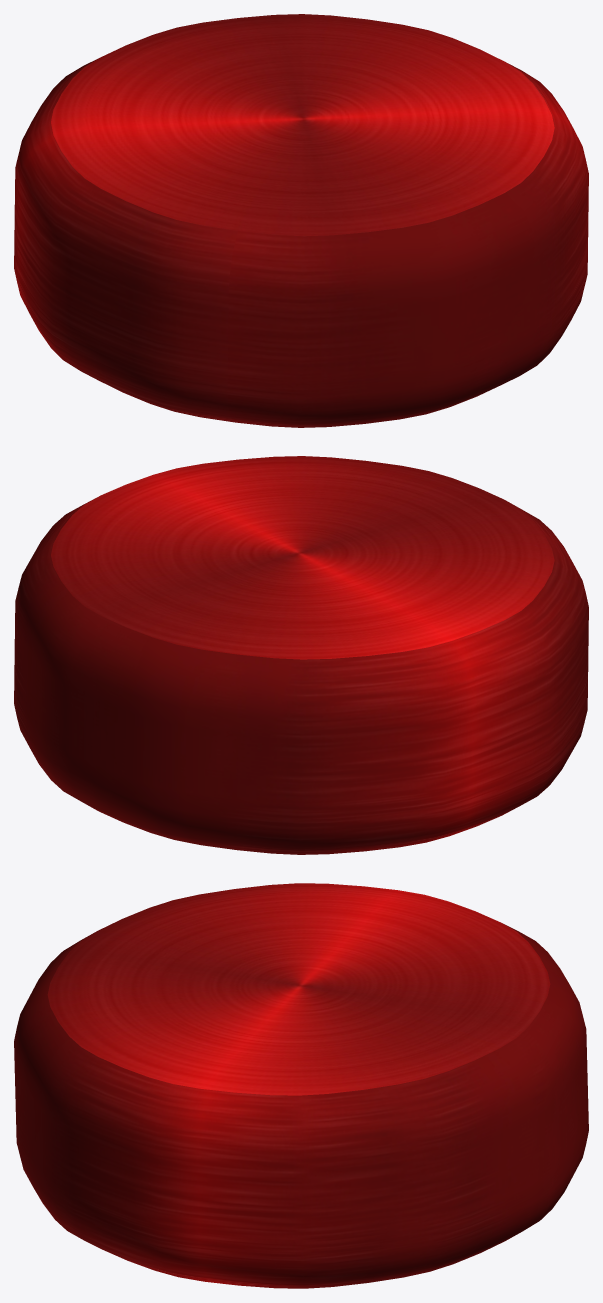
File: RedButton.fbx
3 renders of one model, top to bottom at view 1: azimuth 30°, elevation 25°; view 2: azimuth 150°, elevation 25°; view 3: azimuth 270°, elevation 25°, orthographic.
Visible parts, largest first — view 1: RedButton; view 2: RedButton; view 3: RedButton.
Boxes of the visible parts, x1,y1,x2,y2 form: RedButton: [14, 14, 588, 427]; RedButton: [14, 456, 588, 854]; RedButton: [14, 883, 588, 1288].
Bounding box in the file's own units: 167 × 67.97 × 167.
